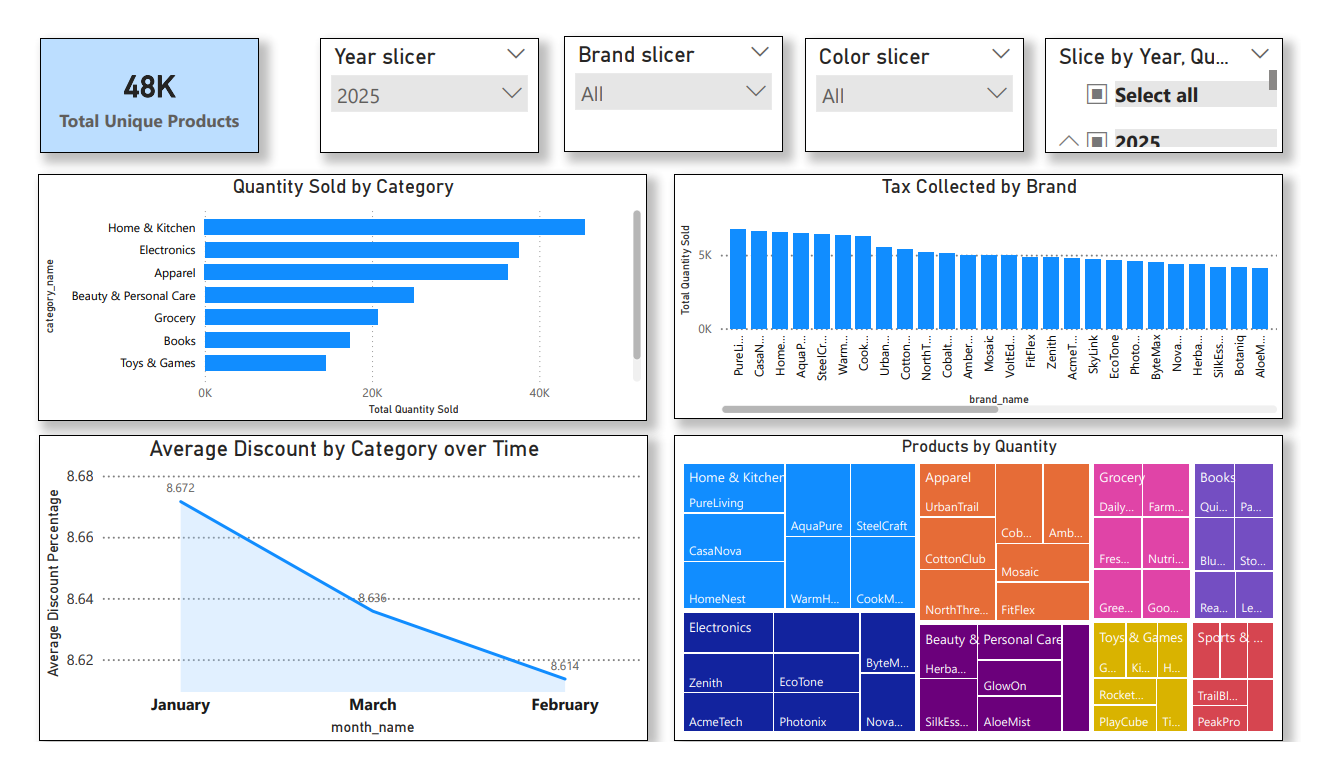

What the dashboard file says about the page in this screenshot:
{"tool":"powerbi","page":{"name":"Product Dashboard","canvas":[1280,720],"ordinal":2},"visuals":[{"type":"card","fields":{"Values":["_Measures.Total Unique Products"]},"box":[18.8,15.7,219.1,115.8],"z":0},{"type":"slicer","fields":{"Values":["dim_products.brand_name"]},"box":[543.1,14.1,219.1,115.8],"z":1000},{"type":"slicer","fields":{"Values":["dim_products.color"]},"box":[784.2,15.7,219.1,114.3],"z":2000},{"type":"slicer","fields":{"Values":["dim_date.date.Variation.Date Hierarchy.Year"]},"box":[298.9,15.7,219.1,115.8],"z":3000},{"type":"slicer","fields":{"Values":["dim_date.date.Variation.Date Hierarchy.Year","dim_date.date.Variation.Date Hierarchy.Quarter"]},"box":[1024.5,15.6,237.6,115.6],"z":4000},{"type":"clusteredBarChart","title":"Quantity Sold by Category","fields":{"Category":["dim_products.category_name"],"Y":["_Measures.Total Quantity Sold"]},"box":[16.9,151.9,609,246.7],"z":5000},{"type":"clusteredColumnChart","title":"Tax Collected by Brand","fields":{"Category":["dim_products.brand_name"],"Y":["_Measures.Total Quantity Sold"]},"box":[653.1,151.9,609,245.4],"z":6000},{"type":"lineChart","title":"Average Discount by Category over Time","fields":{"Category":["dim_date.month_name"],"Y":["_Measures.Average Discount Percentage"]},"box":[18.2,412.9,609,306.4],"z":7000},{"type":"treemap","title":"Products by Quantity","fields":{"Group":["dim_products.category_name"],"Details":["dim_products.brand_name"],"Values":["_Measures.Total Quantity Sold"]},"box":[653.1,412.9,609,306.4],"z":8000}]}

Visuals, with their boxes in screenshot pixels (x1, y1, x2, y2), scaled from the page's 1280x720 canvas onto the 1321x762 screenshot:
card - _Measures.Total Unique Products: x1=19 y1=17 x2=246 y2=139
slicer - dim_products.brand_name: x1=560 y1=15 x2=787 y2=137
slicer - dim_products.color: x1=809 y1=17 x2=1035 y2=138
slicer - dim_date.date.Variation.Date Hierarchy.Year: x1=308 y1=17 x2=535 y2=139
slicer - dim_date.date.Variation.Date Hierarchy.Year x dim_date.date.Variation.Date Hierarchy.Quarter: x1=1057 y1=17 x2=1303 y2=139
"Quantity Sold by Category" clusteredBarChart: x1=17 y1=161 x2=646 y2=422
"Tax Collected by Brand" clusteredColumnChart: x1=674 y1=161 x2=1303 y2=420
"Average Discount by Category over Time" lineChart: x1=19 y1=437 x2=647 y2=761
"Products by Quantity" treemap: x1=674 y1=437 x2=1303 y2=761
